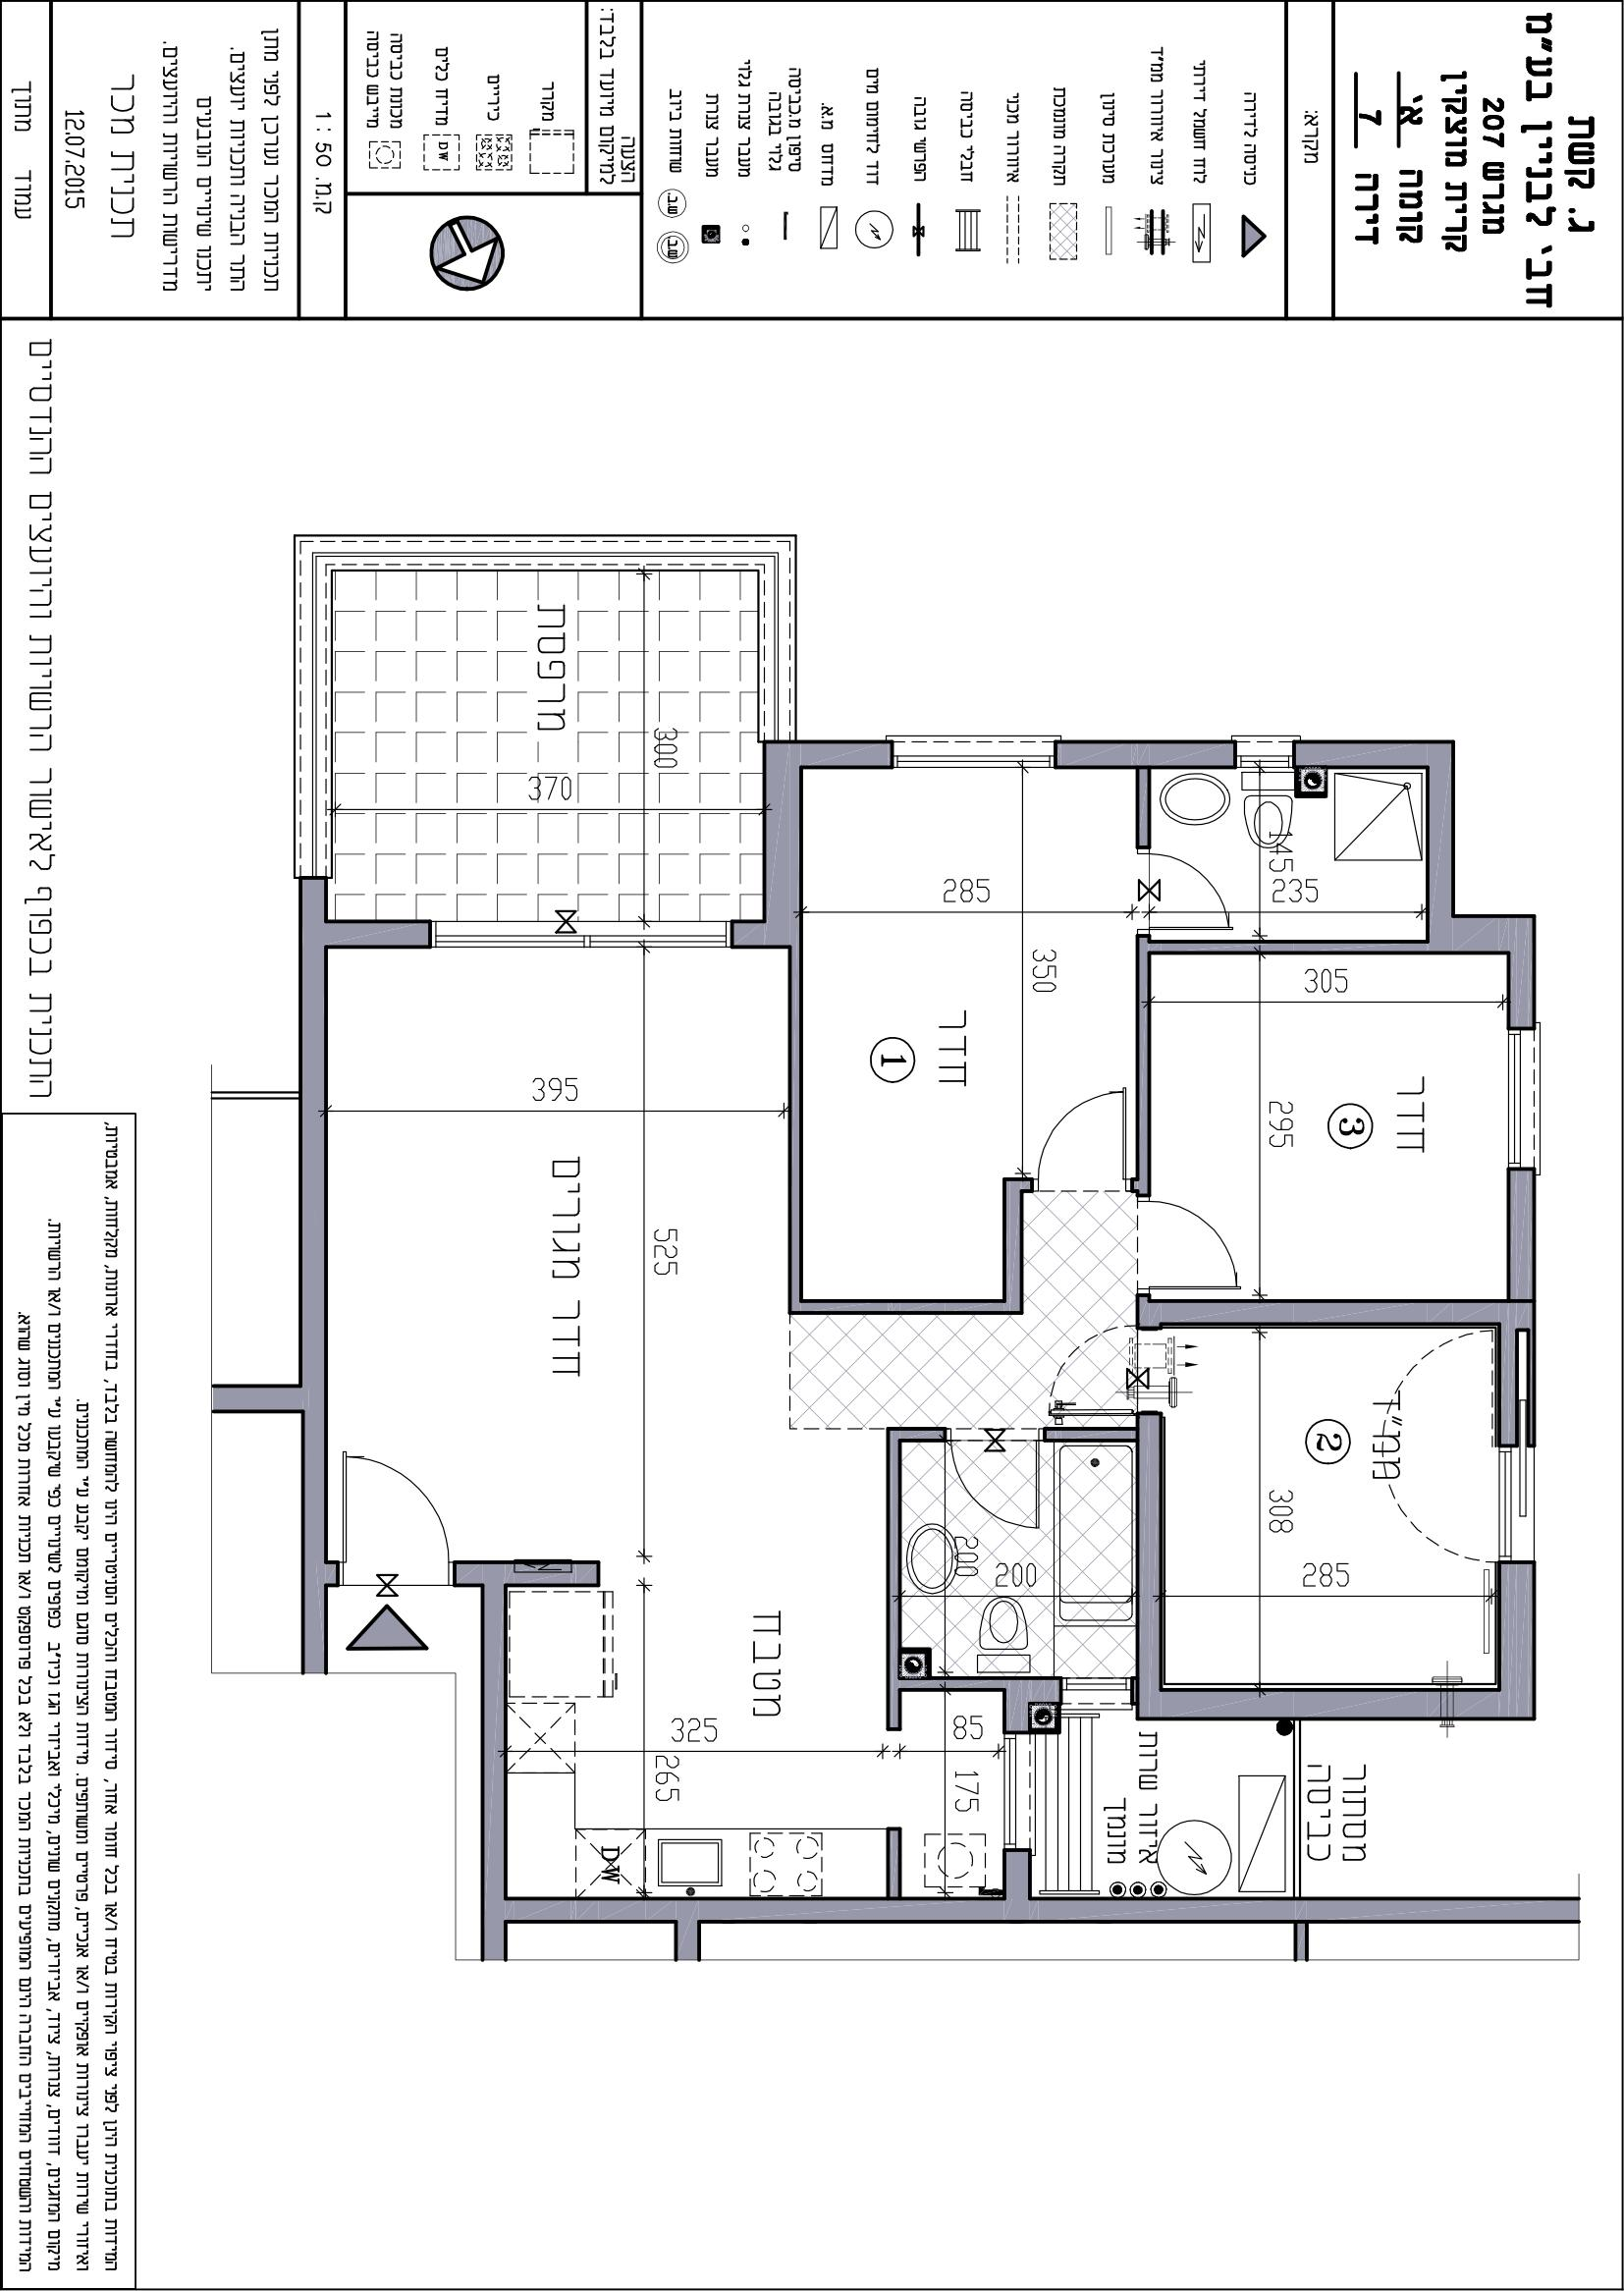door: (330, 1441, 459, 1555), (944, 1444, 1056, 1536), (1019, 1077, 1132, 1168), (1153, 843, 1265, 935), (1149, 1198, 1260, 1290)
wall: (483, 1896, 1578, 1922), (297, 880, 329, 1673), (1139, 1688, 1534, 1718), (482, 1564, 506, 1959), (1141, 1414, 1167, 1722)
window: (431, 921, 731, 949), (1503, 1026, 1538, 1170), (893, 740, 1058, 768), (1237, 740, 1295, 770)
